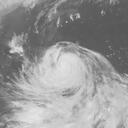cyclone: (17, 41, 115, 124)
